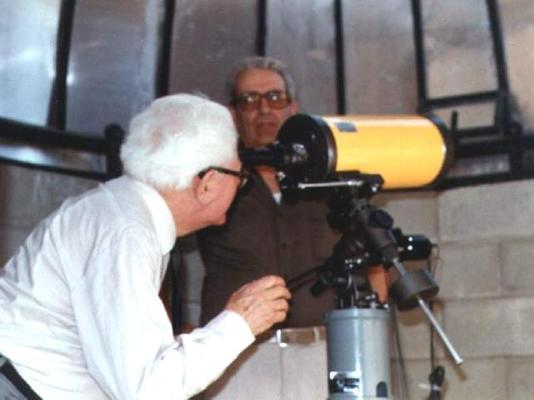person: (3, 93, 295, 400)
